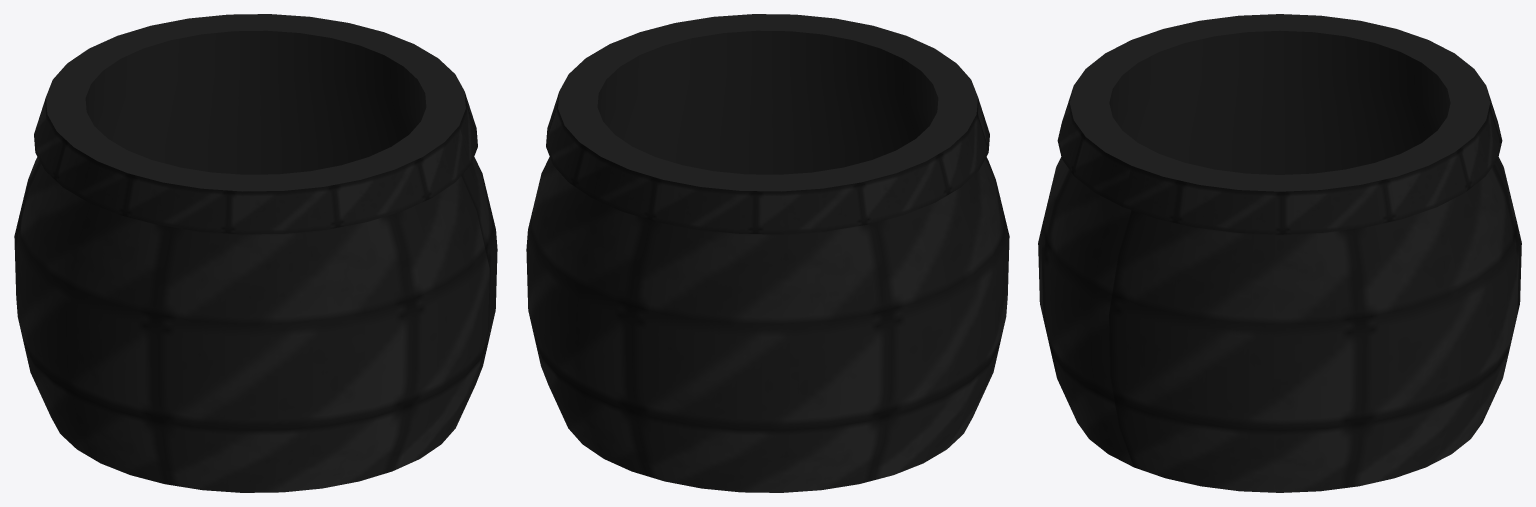
The model's file is trash Chute.fbx.
3 renders of one model, left to right at view 1: azimuth 30°, elevation 25°; view 2: azimuth 150°, elevation 25°; view 3: azimuth 270°, elevation 25°, orthographic.
Parts seen in each view (by area): view 1: Cylinder; view 2: Cylinder; view 3: Cylinder.
Part boxes in pixels (x1,y1,x2,y2): Cylinder: (14,14,497,492); Cylinder: (526,14,1009,492); Cylinder: (1038,14,1521,492).
Size of the model in its own units: 248 by 172 by 248.
